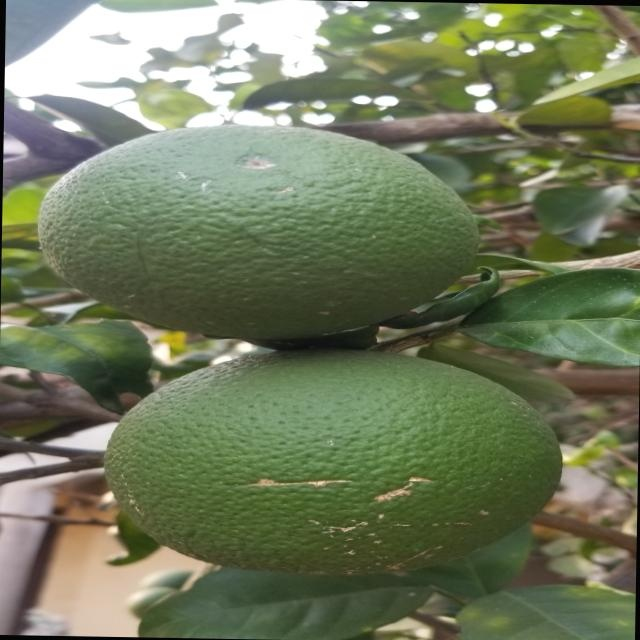agrume: (90, 339, 578, 587), (48, 120, 464, 340)
